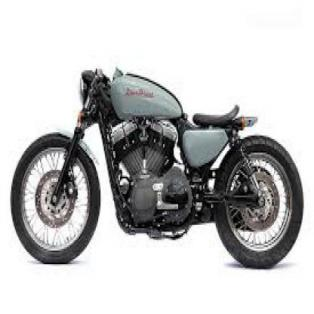Motocicleta: (7, 68, 306, 273)
